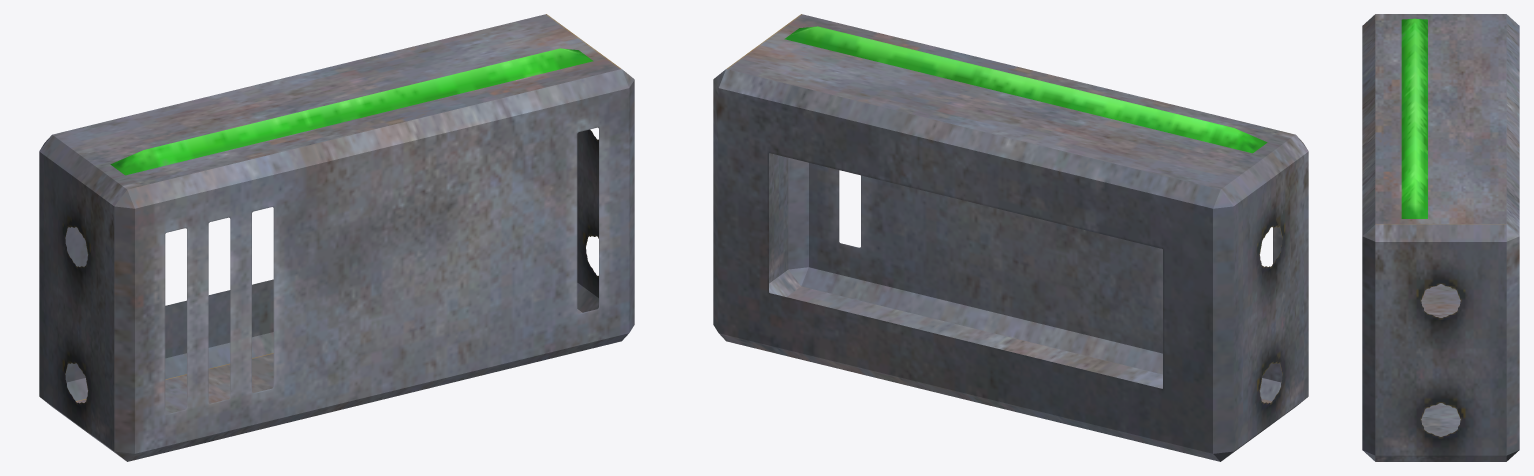
Rendered from eqp_battery_s01_l1.fbx.
3 renders of one model, left to right at view 1: azimuth 30°, elevation 25°; view 2: azimuth 150°, elevation 25°; view 3: azimuth 270°, elevation 25°, orthographic. The views are drawn at different scales.
Visible parts, largest first — view 1: mesh_node; view 2: mesh_node; view 3: mesh_node.
Boxes of the visible parts, x1=… form: mesh_node: x1=39, y1=14, x2=634, y2=461; mesh_node: x1=713, y1=14, x2=1308, y2=461; mesh_node: x1=1362, y1=14, x2=1519, y2=461.
Size of the model in its own units: 0.24 by 0.105 by 0.06.
Materials: 2 (2 with a texture image).
